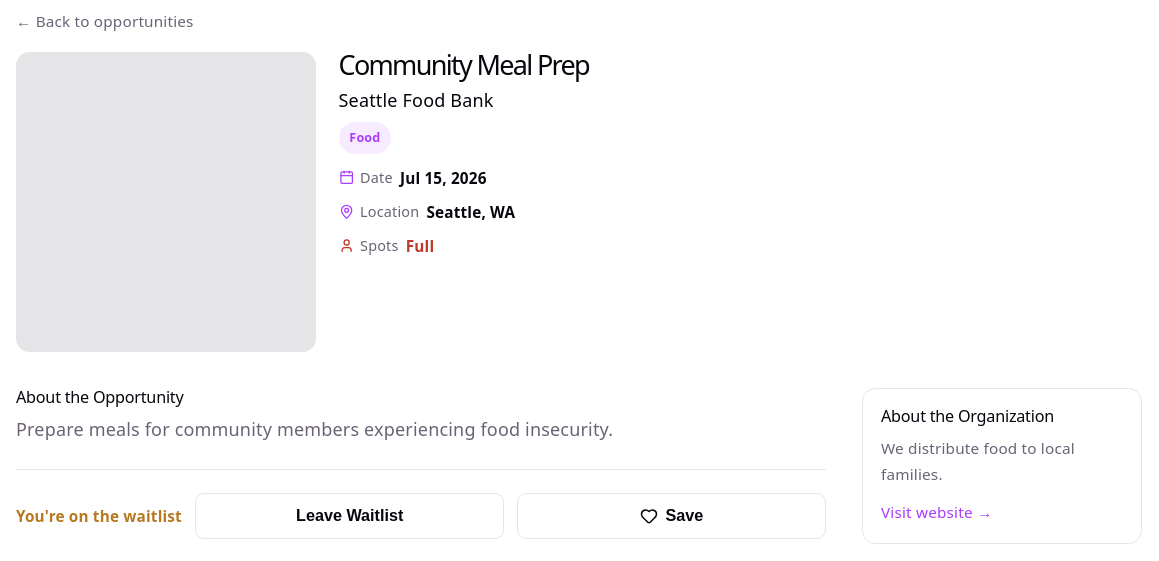
Test: OpportunityDetailsPage › leaves the waitlist and refreshes the opportunity when the volunteer clicks Leave Waitlist
Click the button "Leave Waitlist": (350, 516) x1=196 y1=493 x2=504 y2=539
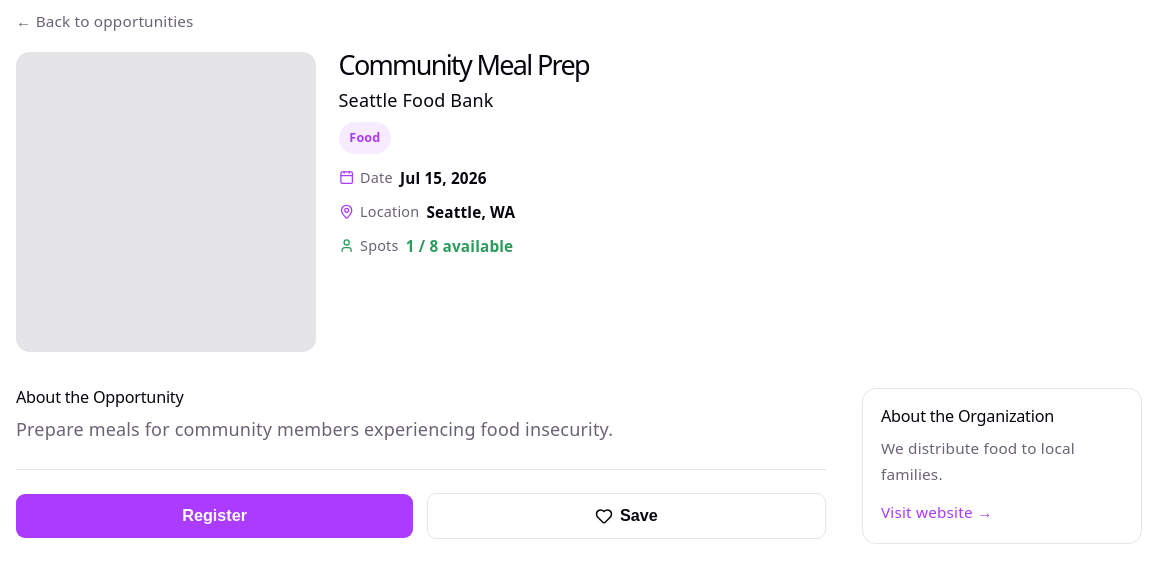
Result: the button "Register" is shown at x1=16 y1=494 x2=413 y2=538
